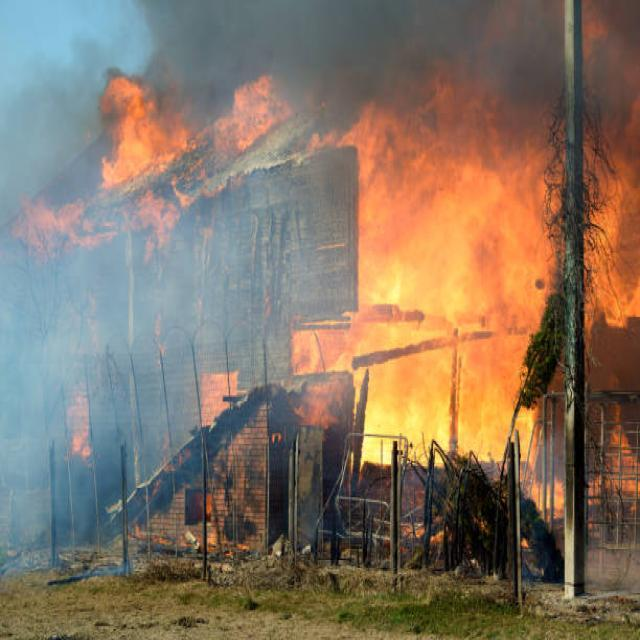Fire: (360, 91, 592, 451), (91, 84, 213, 221), (228, 74, 294, 177)
Smoke: (136, 0, 640, 204), (4, 226, 139, 447)
